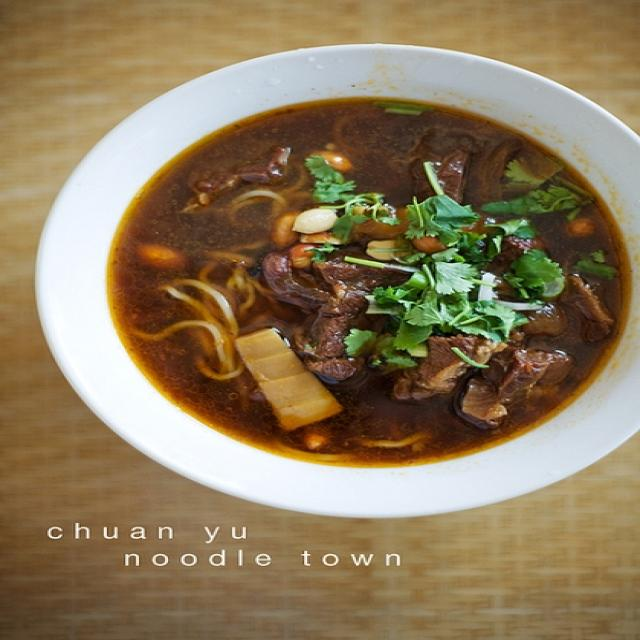面条主食: (93, 52, 582, 500)
